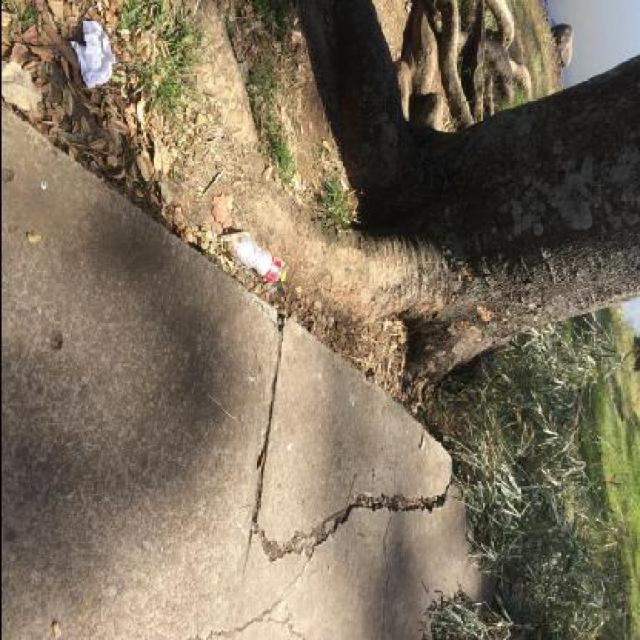paper: (68, 20, 114, 89)
plastic: (228, 232, 286, 283)
